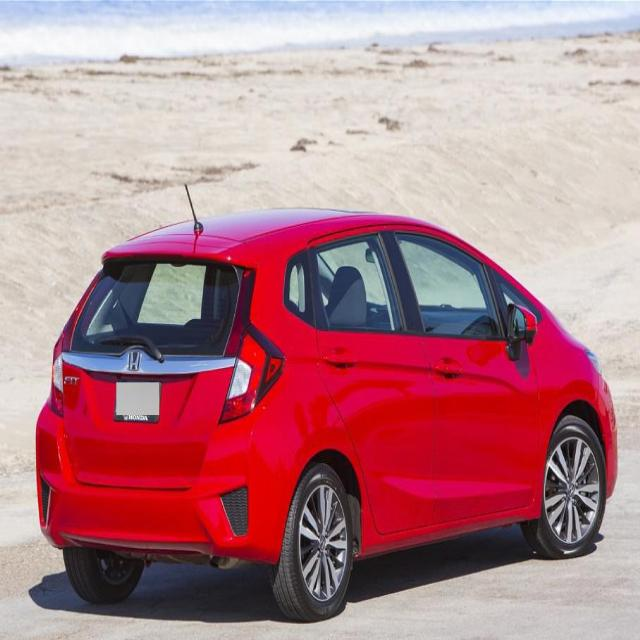back_glass: (68, 256, 244, 358)
back_left_side_light: (47, 321, 68, 420)
back_right_side_light: (217, 321, 286, 426)
door: (305, 241, 440, 535)
front_right_side_door: (385, 221, 535, 528)
front_right_side_light: (584, 346, 605, 382)
front_right_side_mirror: (504, 300, 539, 359)
rear_bumper: (35, 400, 292, 564)
wheel: (268, 460, 353, 624), (520, 413, 607, 560), (62, 546, 144, 604)
